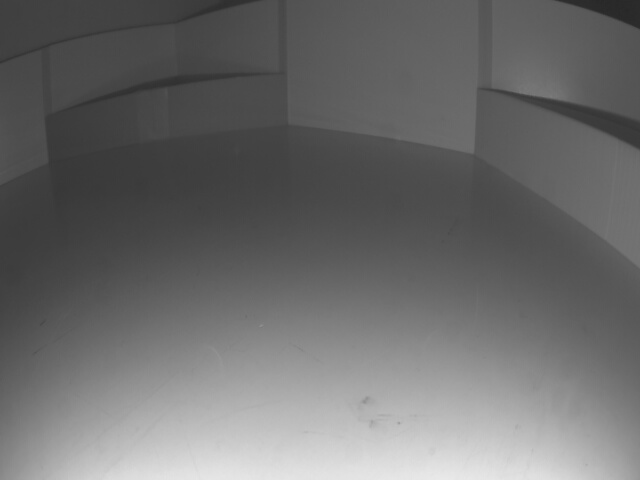Point: (476, 88, 640, 269), (48, 75, 284, 166)
